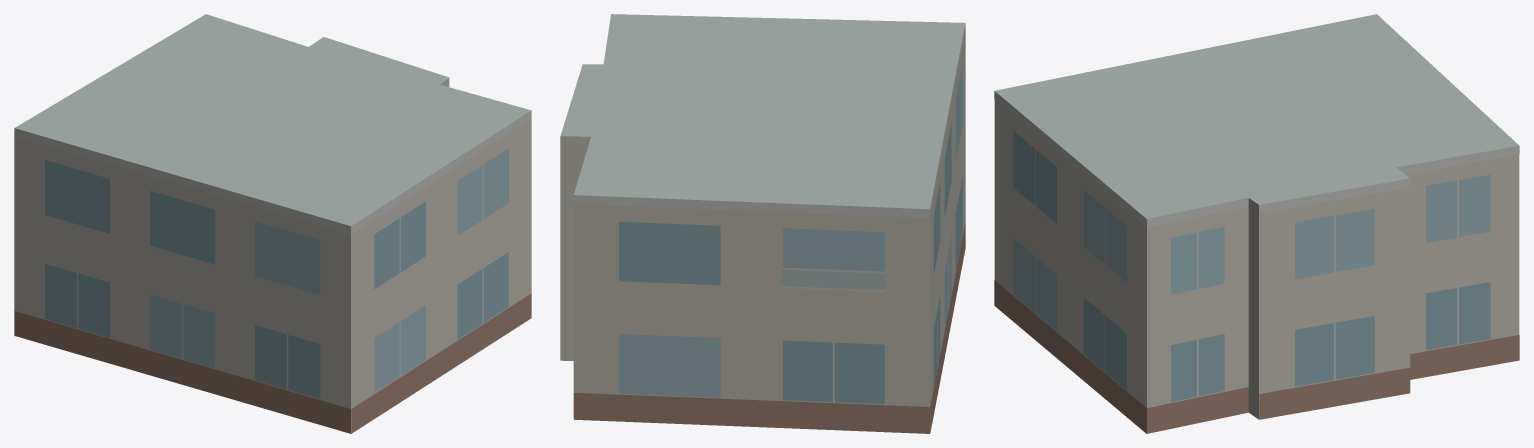
Rendered from survey-upis-32834559.glb.
3 renders of one model, left to right at view 1: azimuth 30°, elevation 25°; view 2: azimuth 150°, elevation 25°; view 3: azimuth 270°, elevation 25°, orthographic. The views are drawn at different scales.
Visible parts, largest first — view 1: survey-upis-32834559.tmp; view 2: survey-upis-32834559.tmp; view 3: survey-upis-32834559.tmp.
Boxes of the visible parts, x1=… form: survey-upis-32834559.tmp: x1=14, y1=14, x2=531, y2=433; survey-upis-32834559.tmp: x1=560, y1=14, x2=965, y2=433; survey-upis-32834559.tmp: x1=994, y1=14, x2=1519, y2=433.
Bounding box in the file's own units: 12.49 × 6.1 × 13.52.
